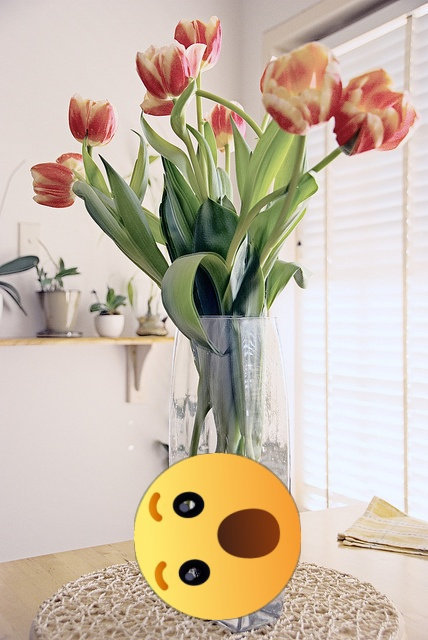wow: (134, 453, 301, 620)
